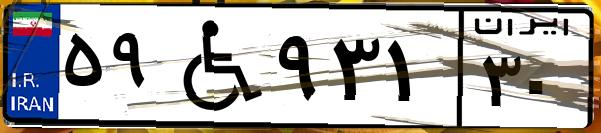0: (525, 38, 570, 115)
1: (385, 28, 445, 110)
3: (330, 28, 385, 110), (475, 38, 525, 113)
5: (57, 26, 110, 100)
9: (270, 28, 330, 110), (110, 28, 158, 98)
ژ (معلولین و جانبازان): (158, 12, 270, 120)
